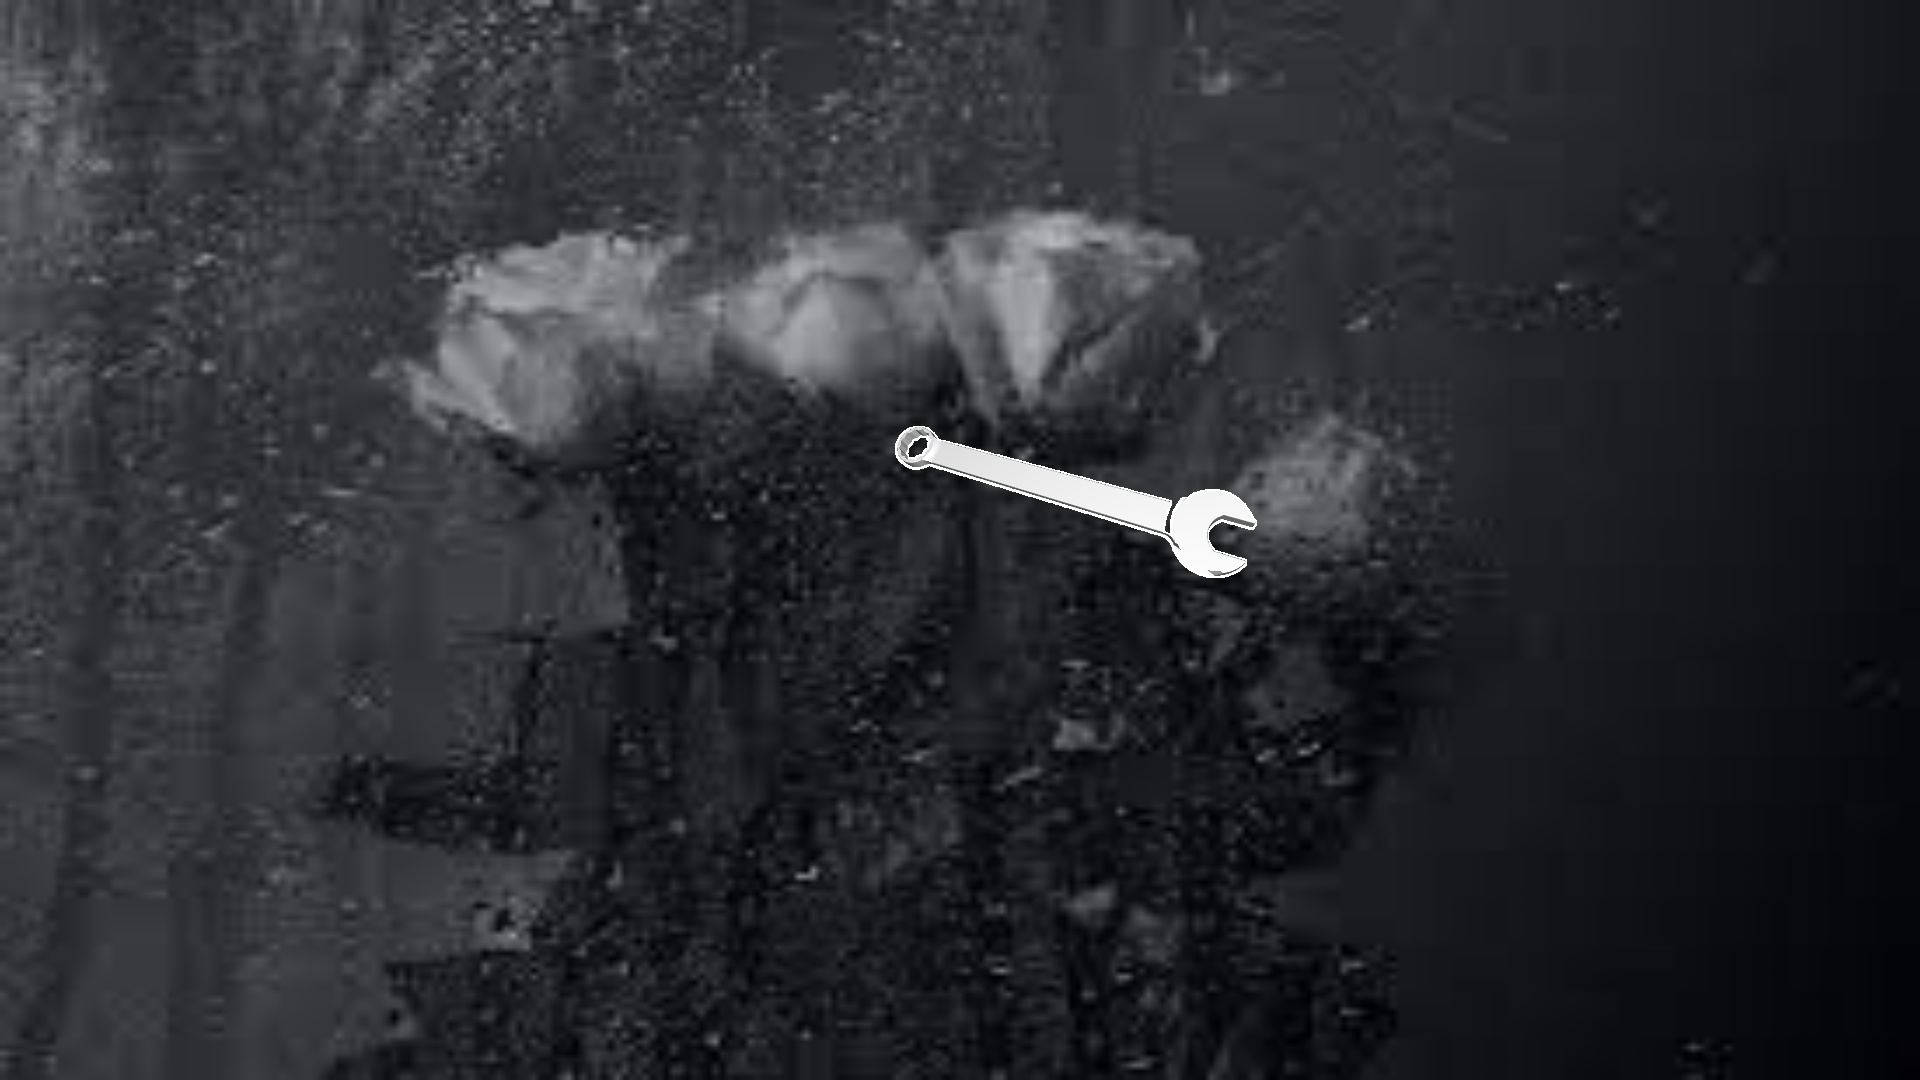Mixed Key: (895, 426, 1255, 578)
